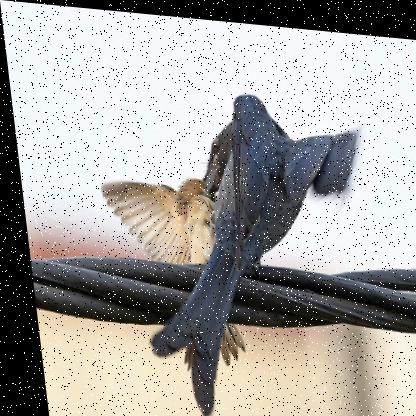Burung: (90, 79, 386, 415)
